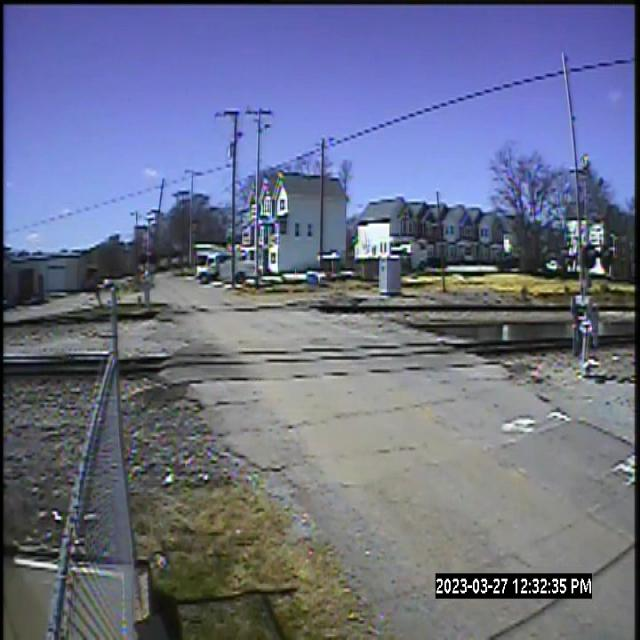barrier: (551, 42, 599, 229), (148, 170, 166, 246)
rails: (4, 279, 640, 332), (5, 329, 640, 378)
traffic-signal: (568, 235, 614, 378), (136, 249, 165, 316)
truck: (196, 238, 258, 286)
